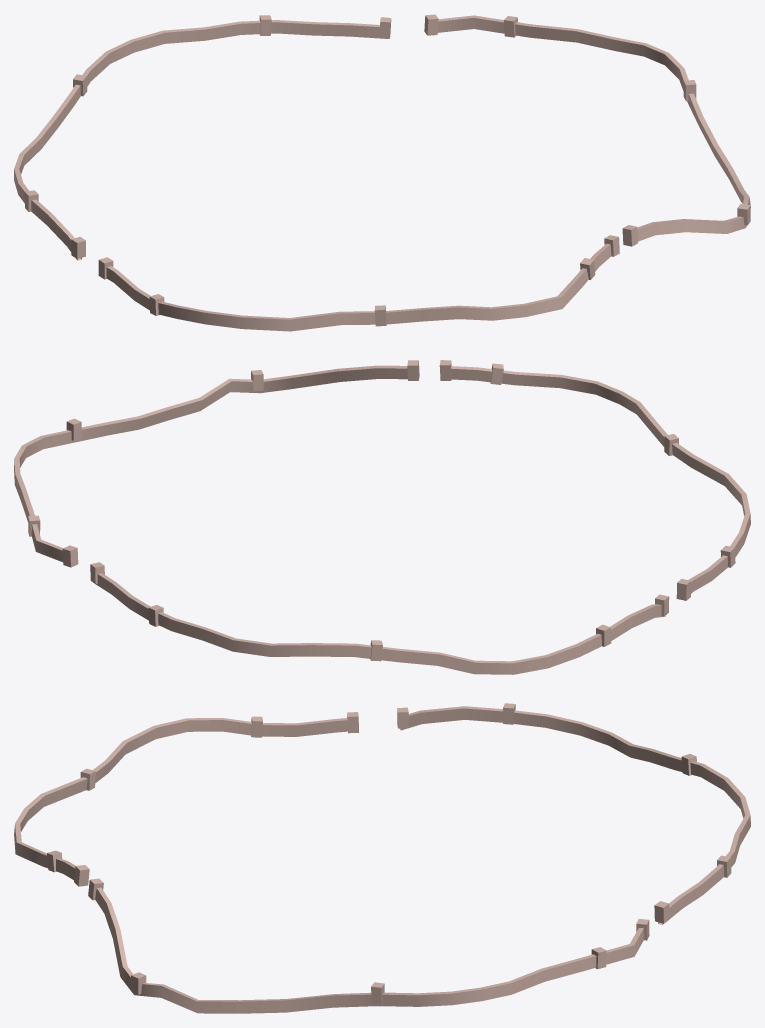
File: CityWall.FBX
3 renders of one model, top to bottom at view 1: azimuth 30°, elevation 25°; view 2: azimuth 150°, elevation 25°; view 3: azimuth 270°, elevation 25°, orthographic.
Parts seen in each view (by area): view 1: Circle002; view 2: Circle002; view 3: Circle002.
Boxes of the visible parts, bbox=[...] form: Circle002: bbox=[14, 15, 750, 331]; Circle002: bbox=[14, 365, 750, 674]; Circle002: bbox=[14, 706, 750, 1013].
Bounding box in the file's own units: 100628 × 102533 × 8088.
